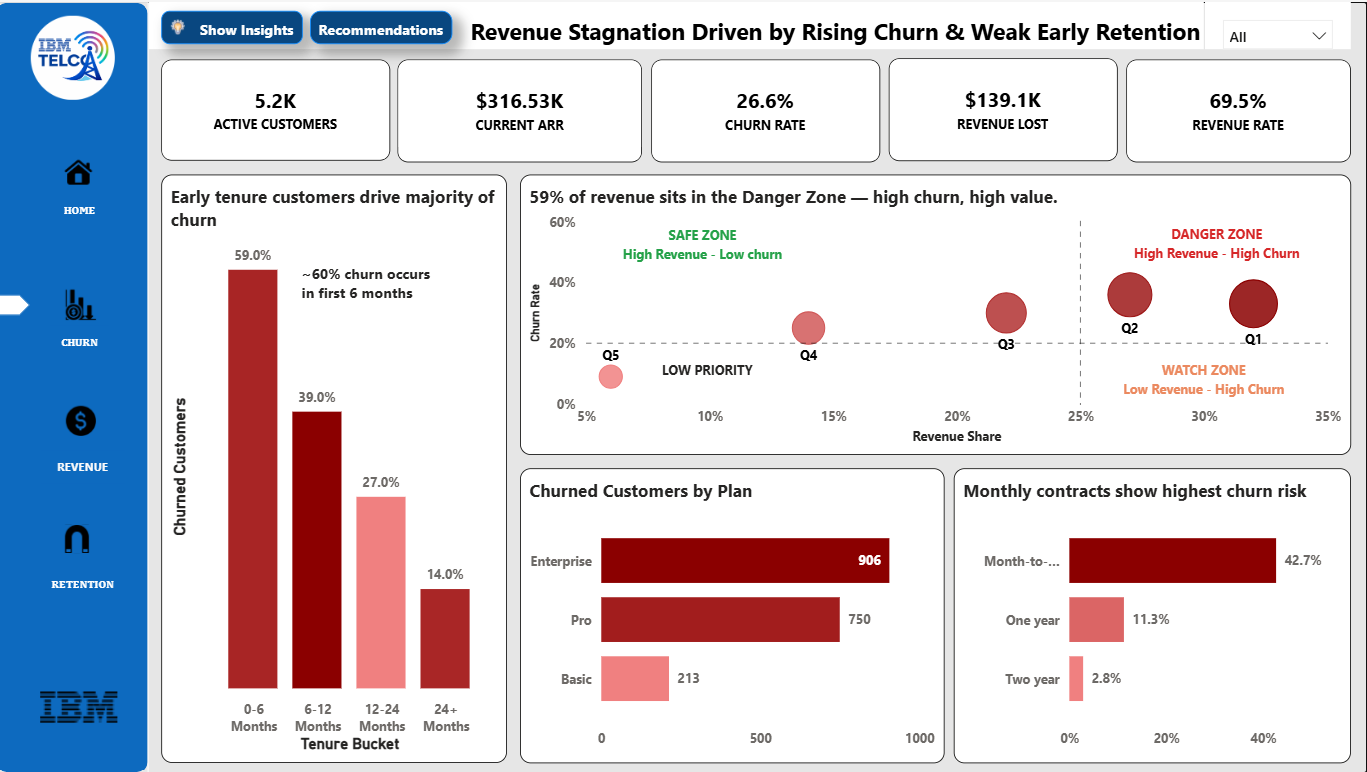

Layout of this report page (visuals, bound fields, positions):
{"tool":"powerbi","page":{"name":"Churn Intelligence","canvas":[1280,720],"ordinal":1},"visuals":[{"type":"clusteredColumnChart","title":"Early tenure customers drive majority of churn","fields":{"Category":["churn per tenure bucket.tenure_bucket"],"Y":["Sum(churn per tenure bucket.churn_rate_percentage)"]},"box":[154.6,160.7,322.7,548.5],"z":0},{"type":"clusteredBarChart","title":"Monthly contracts show highest churn risk","fields":{"Category":["churn_per_contract.CONTRACT"],"Y":["churn_per_contract.CR"]},"box":[894.5,434.4,370.6,274.8],"z":1000},{"type":"scatterChart","title":"59% of revenue sits in the Danger Zone — high churn, high value.","fields":{"X":["Sum(revenue quintile per churn rate - Sheet1.revenue_rate)"],"Y":["Sum(revenue quintile per churn rate - Sheet1.churn_rate)"],"Category":["revenue quintile per churn rate - Sheet1.quintile value"],"Size":["Sum(revenue_quintile.total_annual_revenue)"]},"box":[489.6,160.7,775.5,261.4],"z":2000},{"type":"clusteredBarChart","fields":{"Category":["churn_per_plan.PLAN_PURCHASED"],"Y":["Sum(churn_per_plan.CHURNED_CUSTOMERS)"]},"box":[489.6,434.4,396.3,274.8],"z":3000},{"type":"shape","box":[0,0,143.6,720.2],"z":4000},{"type":"actionButton","box":[51.5,246.6,57.7,69.9],"z":5000},{"type":"actionButton","box":[51.5,360.7,57.7,61.4],"z":6000},{"type":"textbox","box":[51.5,177.9,55.2,33.1],"z":7000},{"type":"textbox","box":[51.5,301.8,55.2,33.1],"z":8000},{"type":"textbox","box":[42.9,418.4,77.3,30.7],"z":9000},{"type":"actionButton","box":[51.5,476.1,55.2,50.3],"z":10000},{"type":"textbox","box":[42.9,526.4,77.3,39.3],"z":11000},{"type":"image","box":[22.1,618.4,111.7,82.2],"z":12000},{"type":"image","box":[22.1,12.3,100.6,78.5],"z":13000},{"type":"textbox","box":[143.6,0,984,44],"z":14000},{"type":"actionButton","title":"Insight Button","box":[154.5,8.1,131.7,30.9],"z":15000},{"type":"actionButton","title":"recom button","box":[293.3,8.6,132.5,31],"z":16000},{"type":"cardVisual","fields":{"Data":["CUSTOMERS.KPI Card Display"]},"box":[154.6,54,213.5,94],"z":17000},{"type":"cardVisual","fields":{"Data":["ARR.KPI CARD ARR"]},"box":[375.5,54,228.2,95.7],"z":18000},{"type":"cardVisual","fields":{"Data":["churn per year - churn per year.KPI CR"]},"box":[612,54,213.5,95.7],"z":19000},{"type":"textbox","box":[609.8,328.8,109.2,31.9],"z":19500},{"type":"cardVisual","fields":{"Data":["annual churn mrr.kpi churn mrr"]},"box":[834,53,213.5,95.7],"z":20000},{"type":"cardVisual","fields":{"Data":["revenue rate.kpi rr"]},"box":[1055.2,54,209.8,95.7],"z":21000},{"type":"textbox","box":[577.9,202.5,163.2,45.4],"z":21250},{"type":"textbox","box":[281,239.3,144.8,50.3],"z":21500},{"type":"actionButton","box":[49.1,127.6,57.7,66.3],"z":22000},{"type":"shape","box":[0,272.4,33,19.6],"z":23000},{"type":"slicer","fields":{"Values":["ARR.YEAR"]},"box":[1128.8,0,136.2,44.2],"z":28000},{"type":"textbox","box":[1047.9,201.2,182.8,46.6],"z":30000},{"type":"textbox","box":[1045.4,328.8,163.2,45.4],"z":33000}]}

Visuals, with their boxes on the page's 1280x720 design canvas (x1, y1, x2, y2). These are canvas units, not pixel positions in the 1367x772 screenshot, which may show the page scaled, cropped or inside an application window:
"Early tenure customers drive majority of churn" clusteredColumnChart: bbox(155, 161, 477, 709)
"Monthly contracts show highest churn risk" clusteredBarChart: bbox(894, 434, 1265, 709)
"59% of revenue sits in the Danger Zone — high churn, high value." scatterChart: bbox(490, 161, 1265, 422)
clusteredBarChart - churn_per_plan.PLAN_PURCHASED x Sum(churn_per_plan.CHURNED_CUSTOMERS): bbox(490, 434, 886, 709)
shape: bbox(0, 0, 144, 720)
actionButton: bbox(52, 247, 109, 316)
actionButton: bbox(52, 361, 109, 422)
textbox: bbox(52, 178, 107, 211)
textbox: bbox(52, 302, 107, 335)
textbox: bbox(43, 418, 120, 449)
actionButton: bbox(52, 476, 107, 526)
textbox: bbox(43, 526, 120, 566)
image: bbox(22, 618, 134, 701)
image: bbox(22, 12, 123, 91)
textbox: bbox(144, 0, 1128, 44)
"Insight Button" actionButton: bbox(154, 8, 286, 39)
"recom button" actionButton: bbox(293, 9, 426, 40)
cardVisual - CUSTOMERS.KPI Card Display: bbox(155, 54, 368, 148)
cardVisual - ARR.KPI CARD ARR: bbox(376, 54, 604, 150)
cardVisual - churn per year - churn per year.KPI CR: bbox(612, 54, 826, 150)
textbox: bbox(610, 329, 719, 361)
cardVisual - annual churn mrr.kpi churn mrr: bbox(834, 53, 1048, 149)
cardVisual - revenue rate.kpi rr: bbox(1055, 54, 1265, 150)
textbox: bbox(578, 202, 741, 248)
textbox: bbox(281, 239, 426, 290)
actionButton: bbox(49, 128, 107, 194)
shape: bbox(0, 272, 33, 292)
slicer - ARR.YEAR: bbox(1129, 0, 1265, 44)
textbox: bbox(1048, 201, 1231, 248)
textbox: bbox(1045, 329, 1209, 374)
